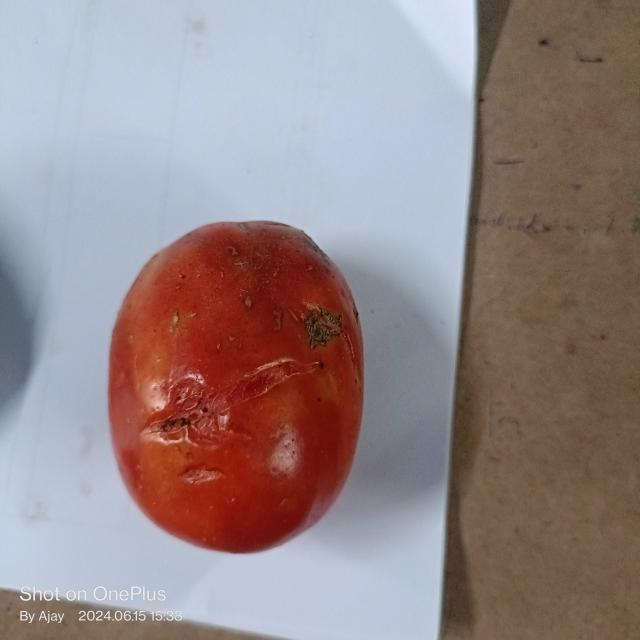Botrytis: (132, 359, 320, 442), (295, 306, 343, 354), (175, 459, 228, 488)
